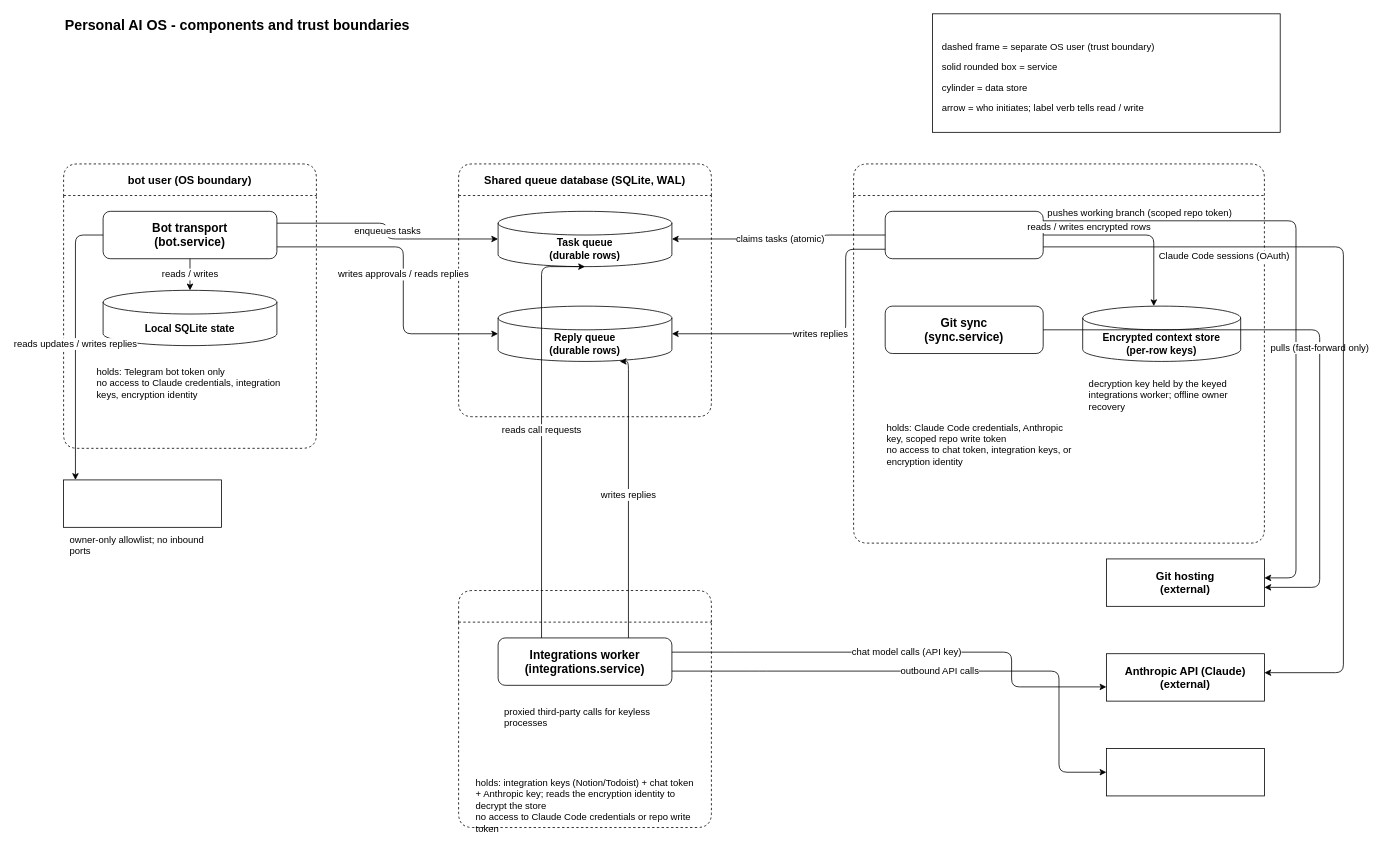
Image size: 1383x848. Some labels were removed from this diagram. The box of each missing label's shape, as (x1, y1, x2, y2) in pixels:
Coding worker (worker.service): (884, 211, 1043, 259)
integrations user (OS boundary): (458, 590, 711, 828)
Legend: (932, 13, 1280, 132)
Task manager / mail (external, read-only): (1106, 748, 1264, 796)
Telegram (external): (63, 479, 222, 527)
worker user (OS boundary): (853, 163, 1264, 543)
